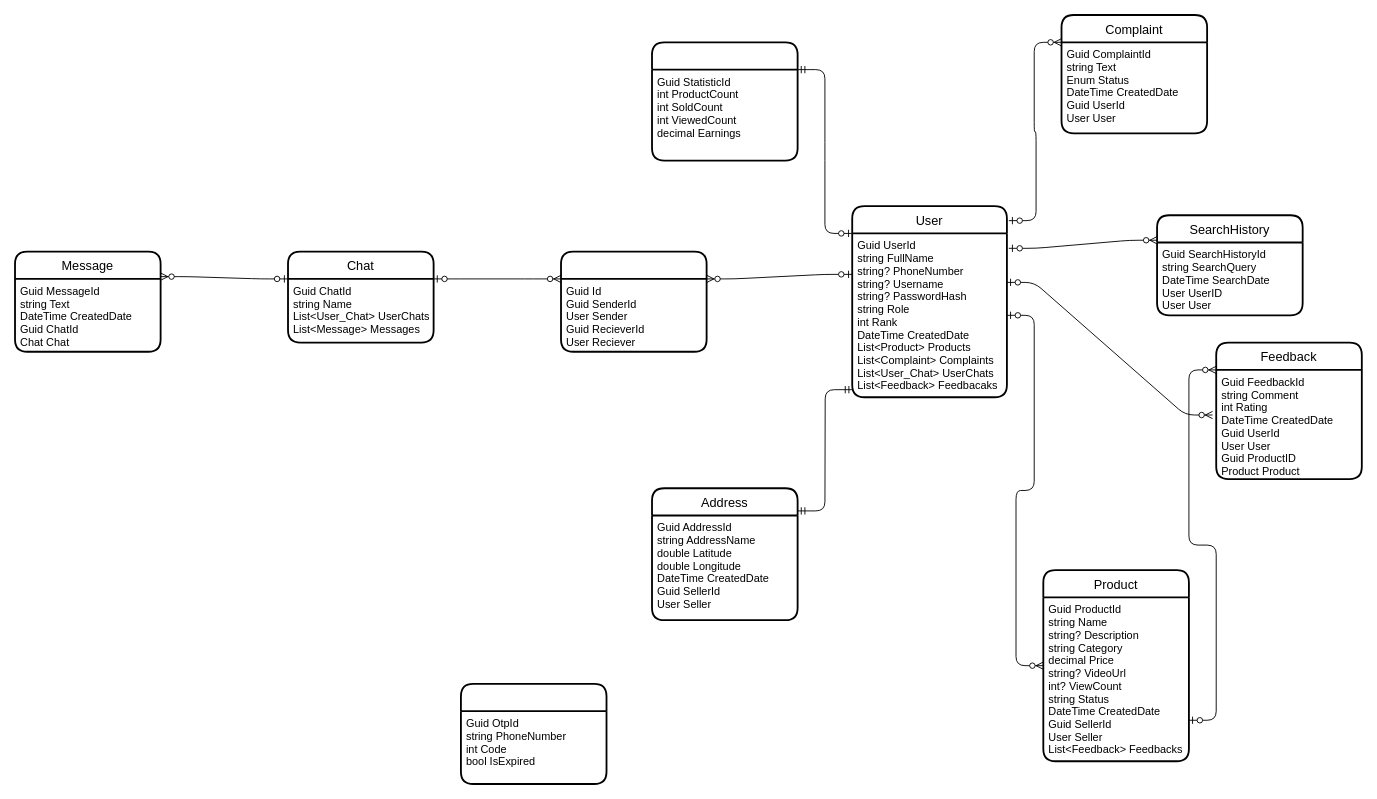
Some shapes in this 1377 by 799 pixel diagram are drawn without their labels. Here are the shapes that lost their labels. From the top down, the box of each, then its label:
(651, 41, 798, 161): Statistics
(560, 250, 707, 352): User_Chat
(460, 682, 607, 784): OtpVerification
